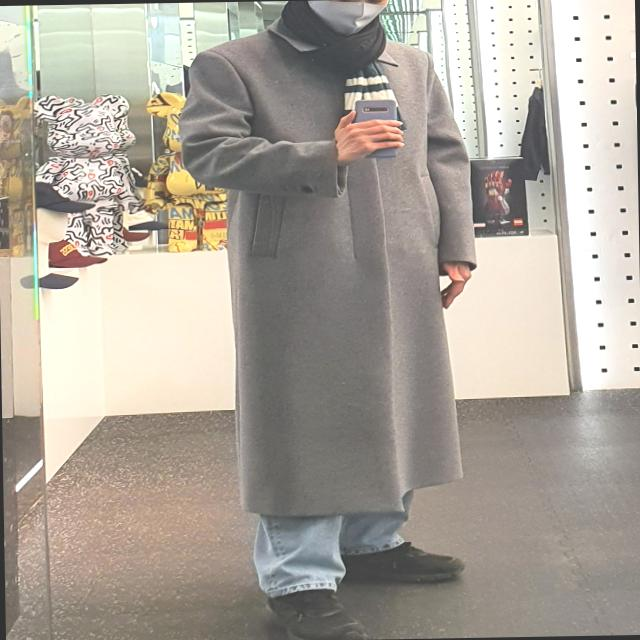coat: (174, 25, 479, 522)
denimpants: (254, 488, 423, 596)
